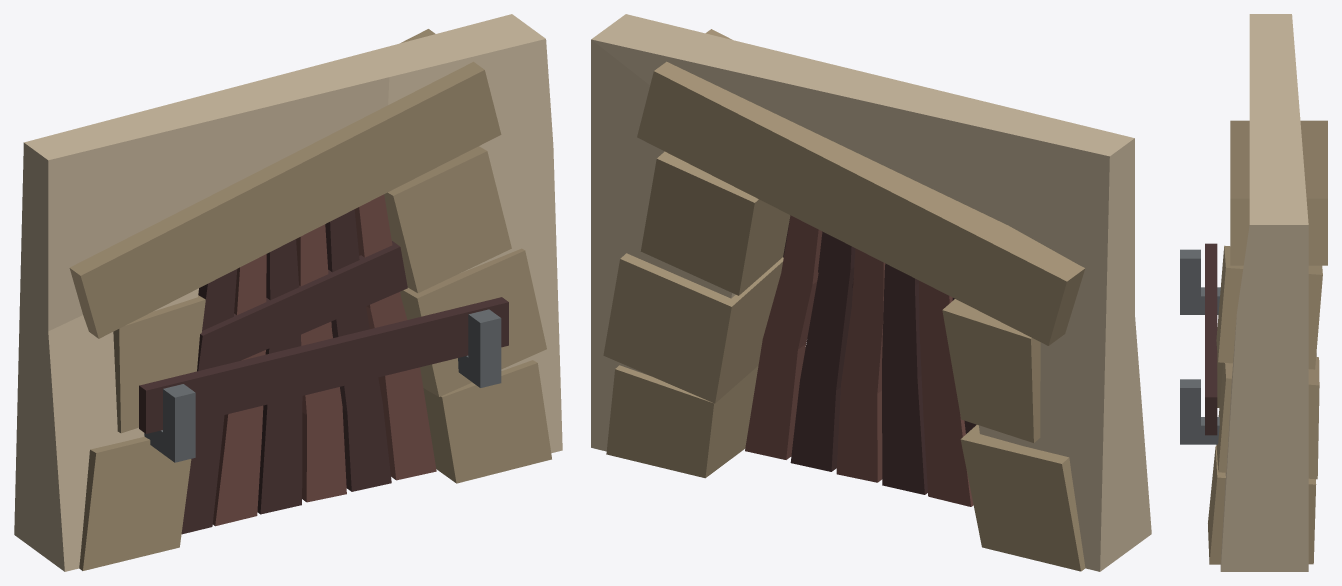
Rendered from LightSandStoneWallSmallCrookedDoorwaywithBarricade1.fbx.
3 renders of one model, left to right at view 1: azimuth 30°, elevation 25°; view 2: azimuth 150°, elevation 25°; view 3: azimuth 270°, elevation 25°, orthographic. The views are drawn at different scales.
Parts seen in each view (by area): view 1: DoorBricks, Wall, Door, Barricade, Supports; view 2: DoorBricks, Wall, Door; view 3: Wall, DoorBricks, Supports, Barricade.
Boxes of the visible parts, x1,y1,x2,y2 form: DoorBricks: (69, 29, 551, 570); Wall: (14, 14, 562, 571); Door: (181, 194, 436, 534); Barricade: (139, 297, 508, 433); Supports: (144, 309, 501, 462); DoorBricks: (603, 29, 1085, 571); Wall: (591, 14, 1151, 571); Door: (745, 215, 976, 506); Wall: (1220, 14, 1308, 571); DoorBricks: (1208, 120, 1327, 564); Supports: (1180, 249, 1220, 444); Barricade: (1205, 243, 1217, 435).
Bounding box in the file's own units: 600 × 460 × 178.
